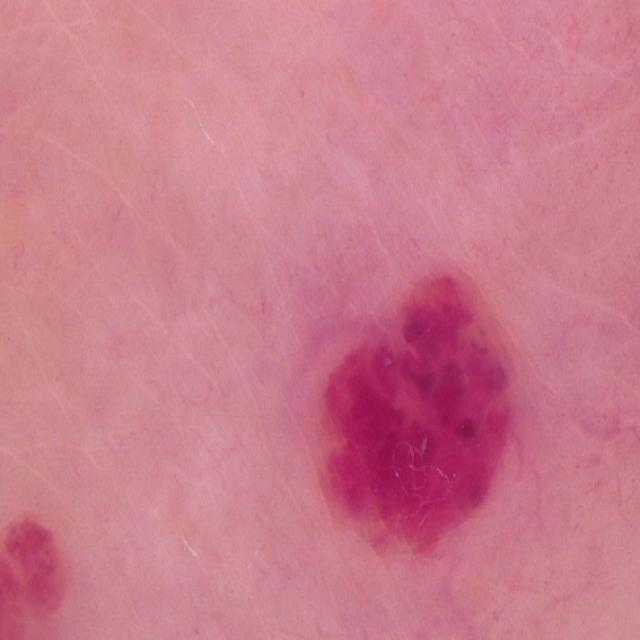Vascular Lesions: (301, 242, 540, 566), (0, 499, 74, 640)
